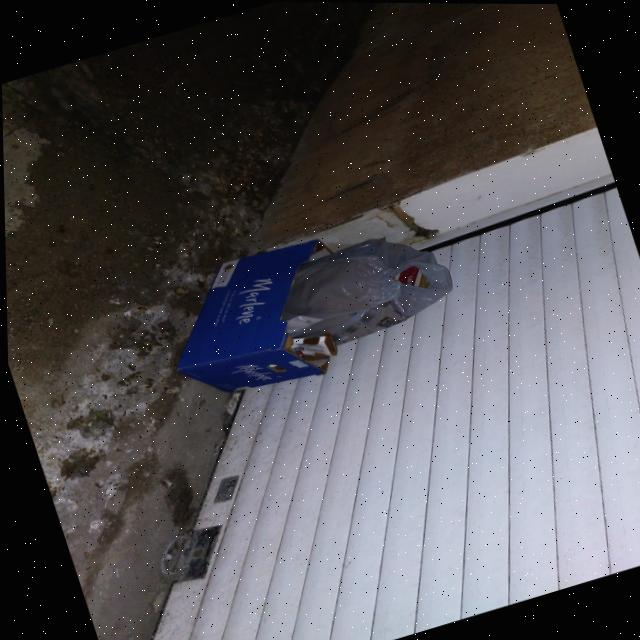Other: (143, 227, 366, 417)
Recycled Waste -Grey or Green Bag-: (263, 217, 464, 358)
